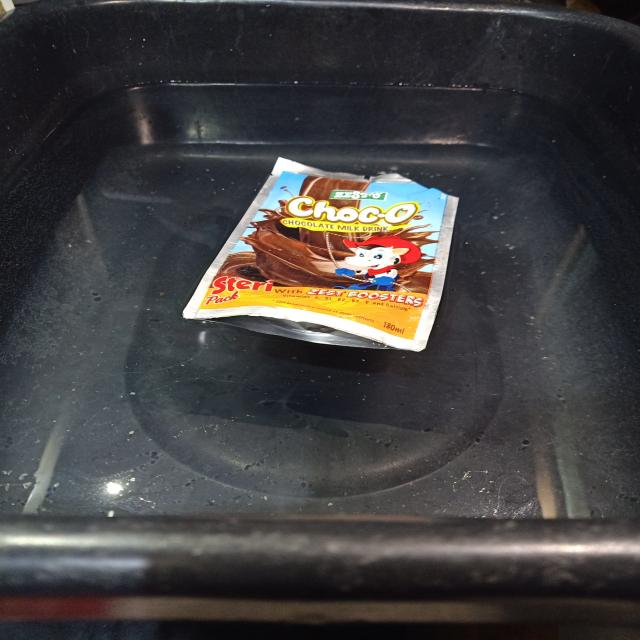Plastic Pouch: (183, 158, 459, 351)
